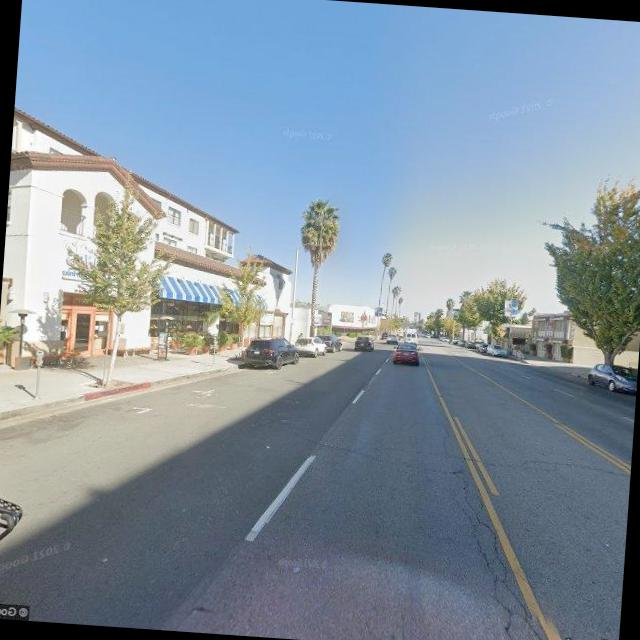crack: (434, 464, 567, 640), (489, 450, 628, 481)
